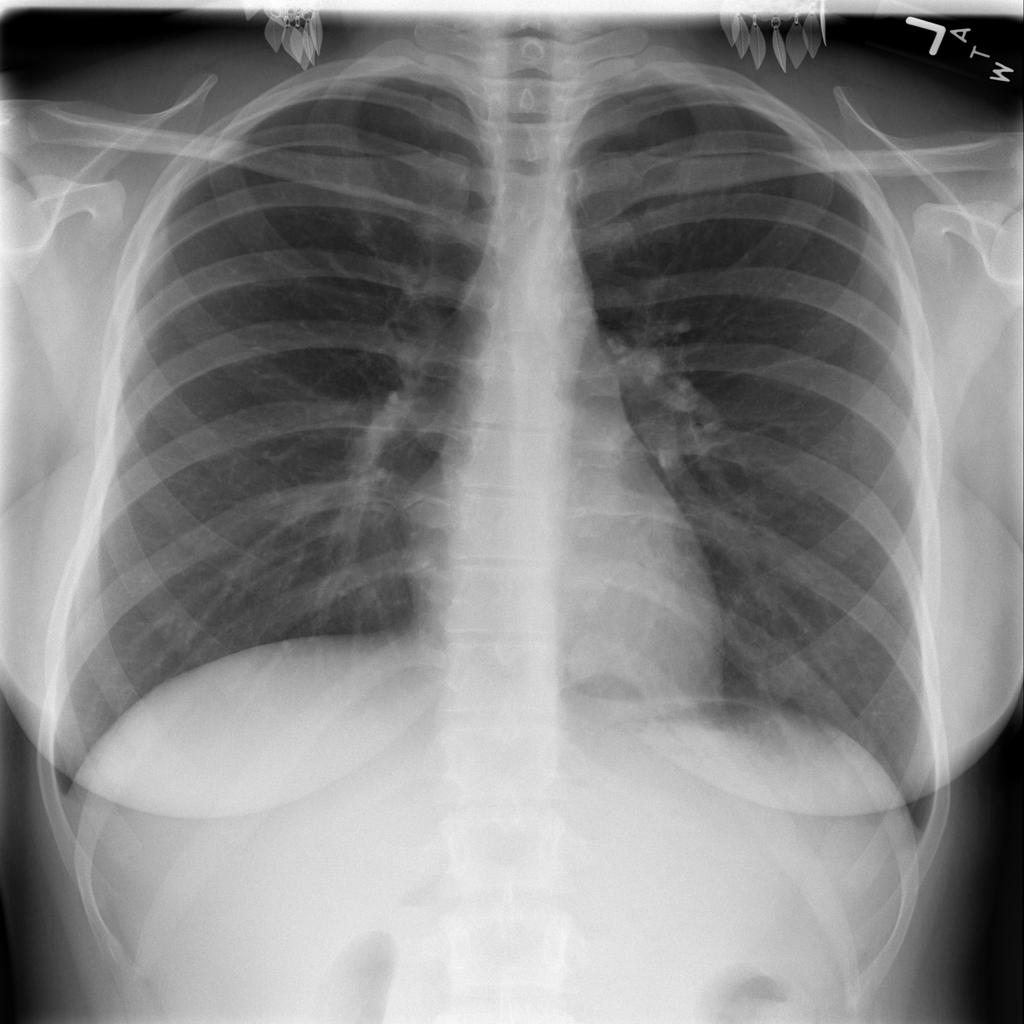nodule: (559, 624, 631, 696)
